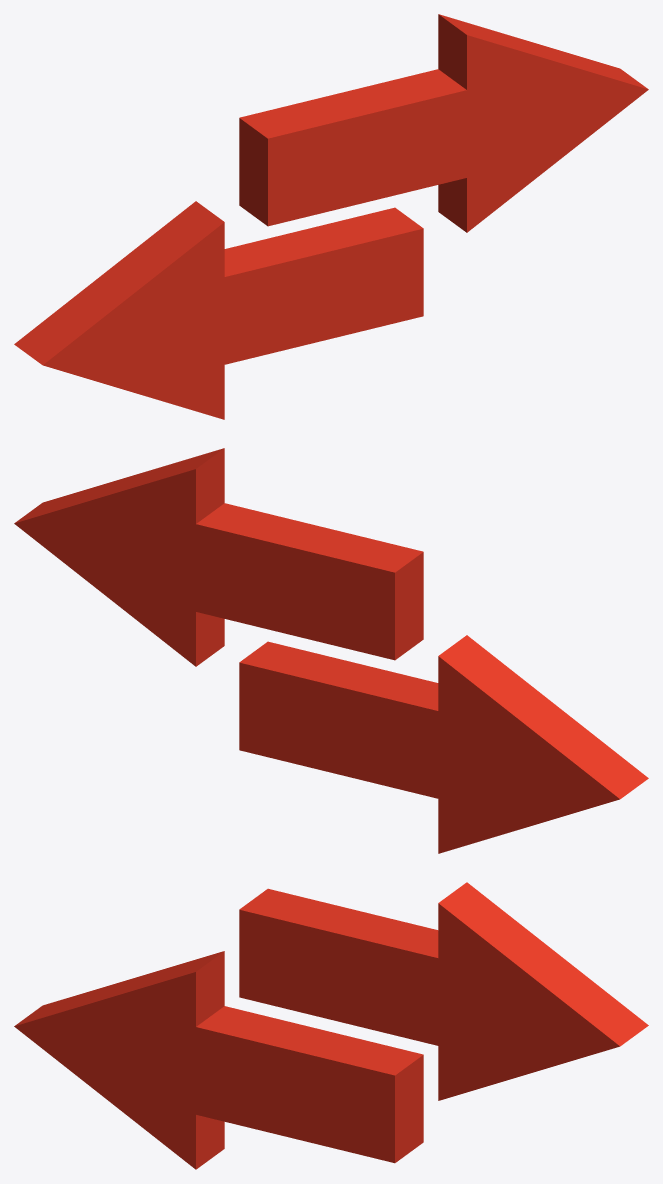
File: Icon_Arrow_06.fbx
3 renders of one model, top to bottom at view 1: azimuth 30°, elevation 25°; view 2: azimuth 150°, elevation 25°; view 3: azimuth 330°, elevation 25°, orthographic.
Parts seen in each view (by area): view 1: Icon_Arrow_06; view 2: Icon_Arrow_06; view 3: Icon_Arrow_06.
Boxes of the visible parts, x1,y1,x2,y2 form: Icon_Arrow_06: [14, 14, 648, 419]; Icon_Arrow_06: [14, 448, 648, 853]; Icon_Arrow_06: [14, 882, 648, 1169].
Bounding box in the file's own units: 147 × 75.59 × 12.06.
